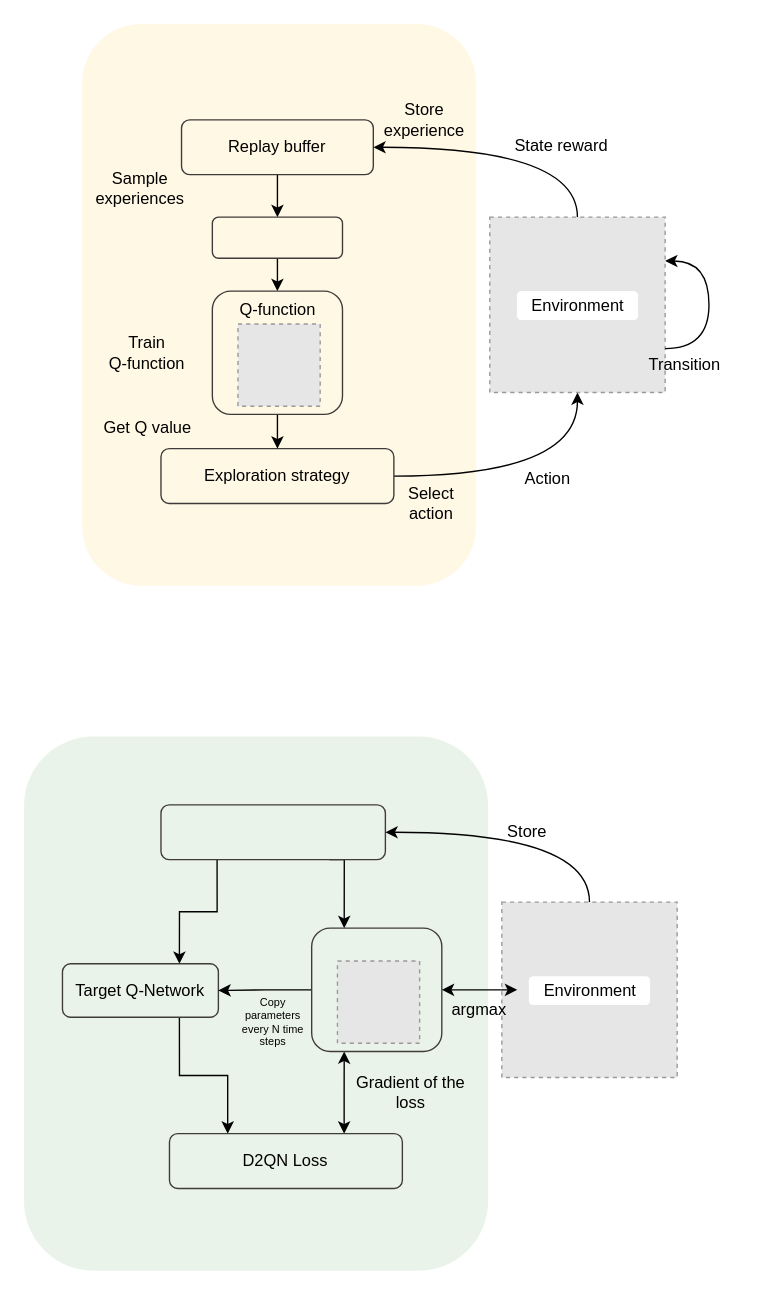
Image size: 766x1293. Some labels were removed from this diagram. Grey dashed boxes stand in for pictures. The box of each missing label's shape, as (x1, y1, x2, y2) in pixels:
Mini batch: (211, 216, 342, 258)
Q-Network: (310, 927, 442, 1051)
Replay Memory: (160, 804, 385, 860)
